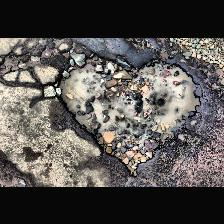pothole: (53, 50, 201, 176)
